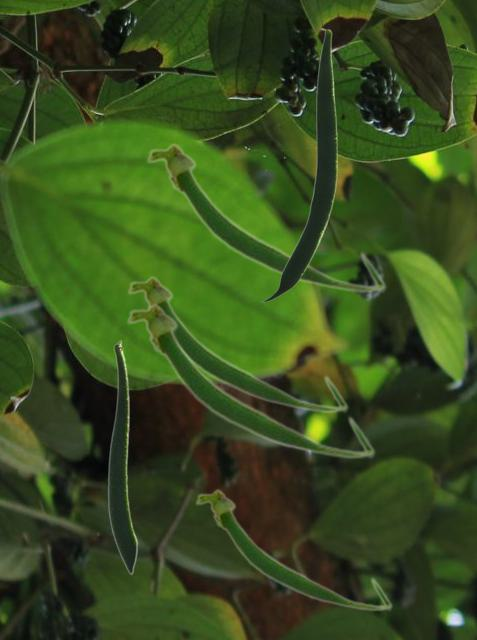french_bean: (125, 301, 375, 459), (145, 141, 386, 293), (126, 274, 348, 413), (194, 487, 392, 611), (261, 28, 336, 301), (107, 340, 137, 574)
